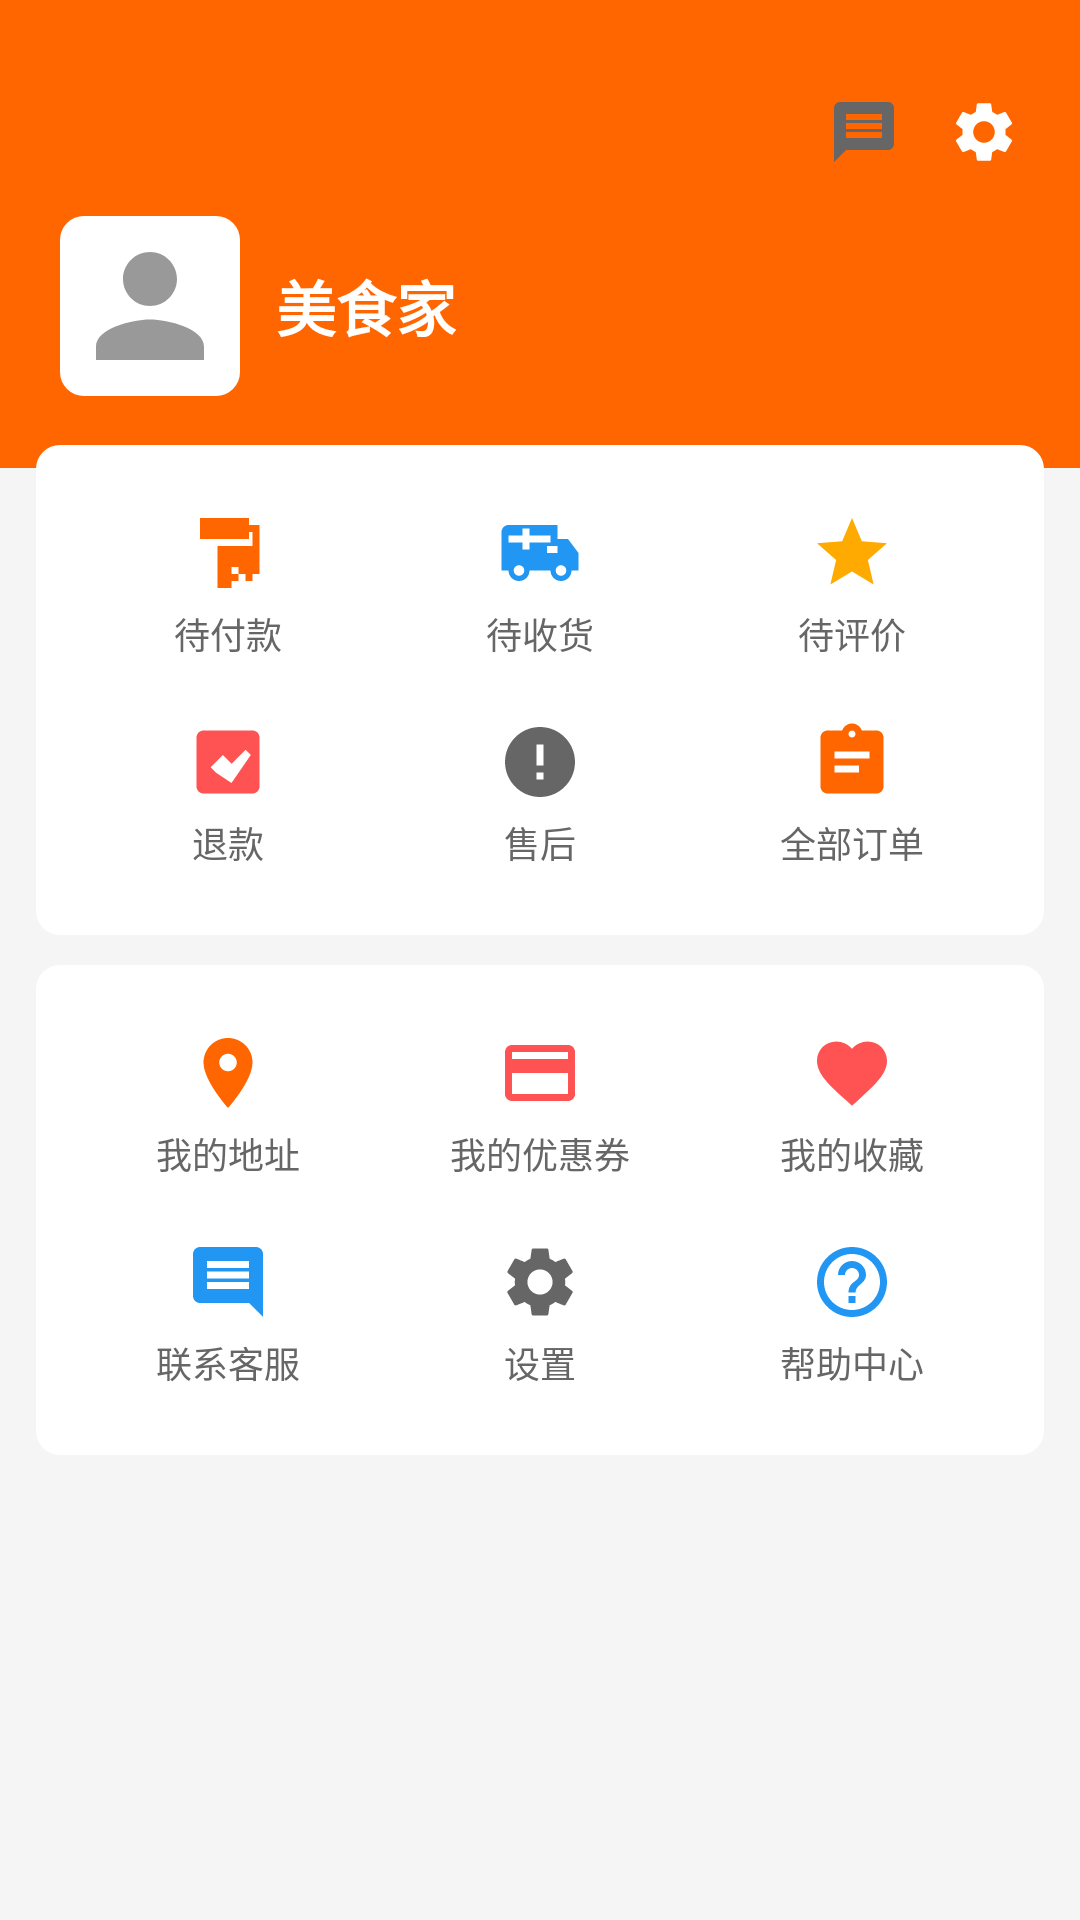

Screen size 1080 × 1920. Icon name, then its center in pixels as (x=x, y=y):
message: (x=864, y=132)
